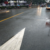zebra: (1, 27, 31, 50)
